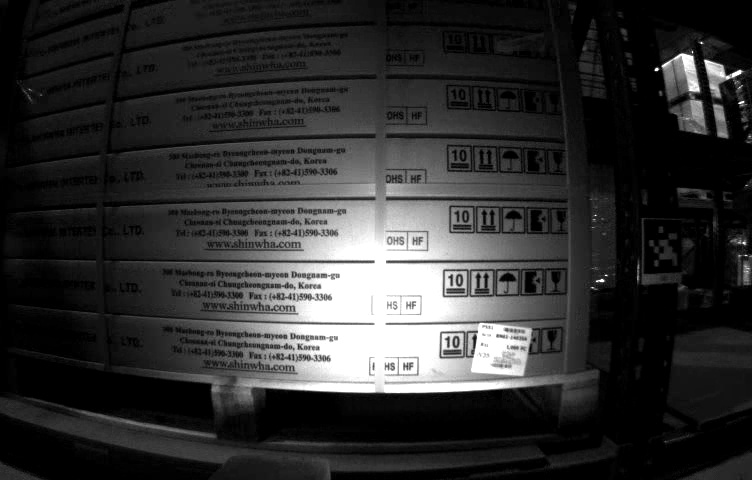True Barcode: (471, 317, 536, 383)
